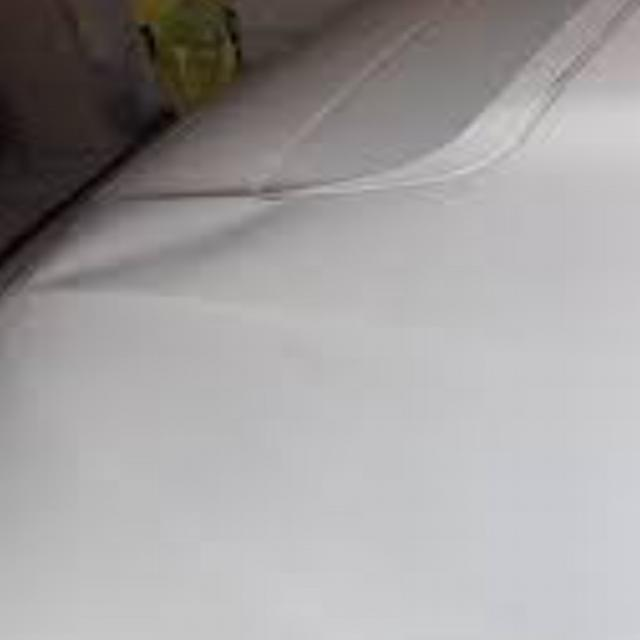dents: (28, 204, 306, 315)
